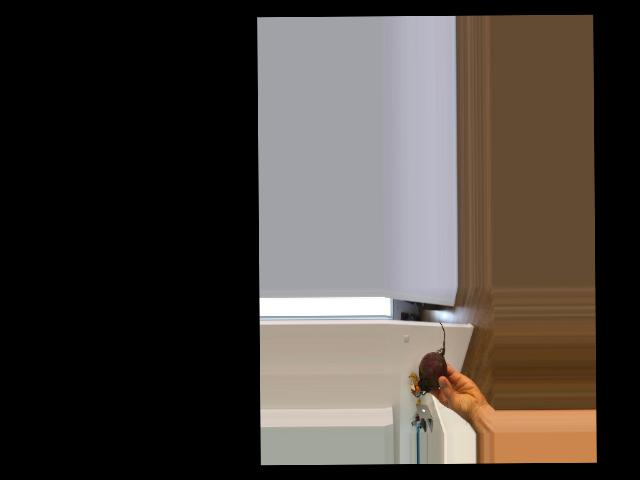beet: (417, 320, 447, 394)
